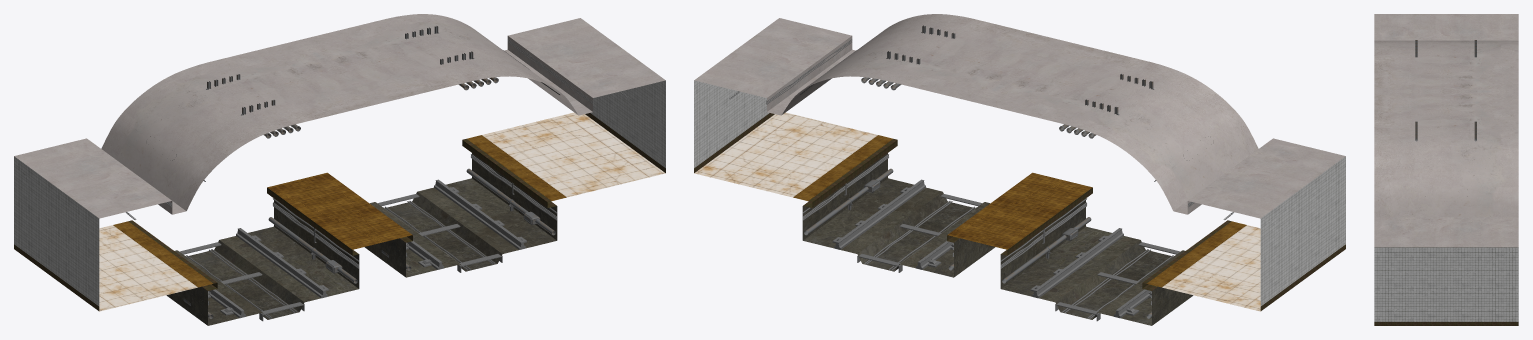
The model's file is Ped_Tunnel_Middle_01_01.fbx.
3 renders of one model, left to right at view 1: azimuth 30°, elevation 25°; view 2: azimuth 150°, elevation 25°; view 3: azimuth 270°, elevation 25°, orthographic. The views are drawn at different scales.
Visible parts, largest first — view 1: Ped_Tunnel_Middle_01_01; view 2: Ped_Tunnel_Middle_01_01; view 3: Ped_Tunnel_Middle_01_01.
Part boxes in pixels (left/top/right/bottom): Ped_Tunnel_Middle_01_01: left=14, top=14, right=665, bottom=325; Ped_Tunnel_Middle_01_01: left=694, top=14, right=1345, bottom=325; Ped_Tunnel_Middle_01_01: left=1374, top=14, right=1518, bottom=325.
Size of the model in its own units: 1916 by 627 by 501.
